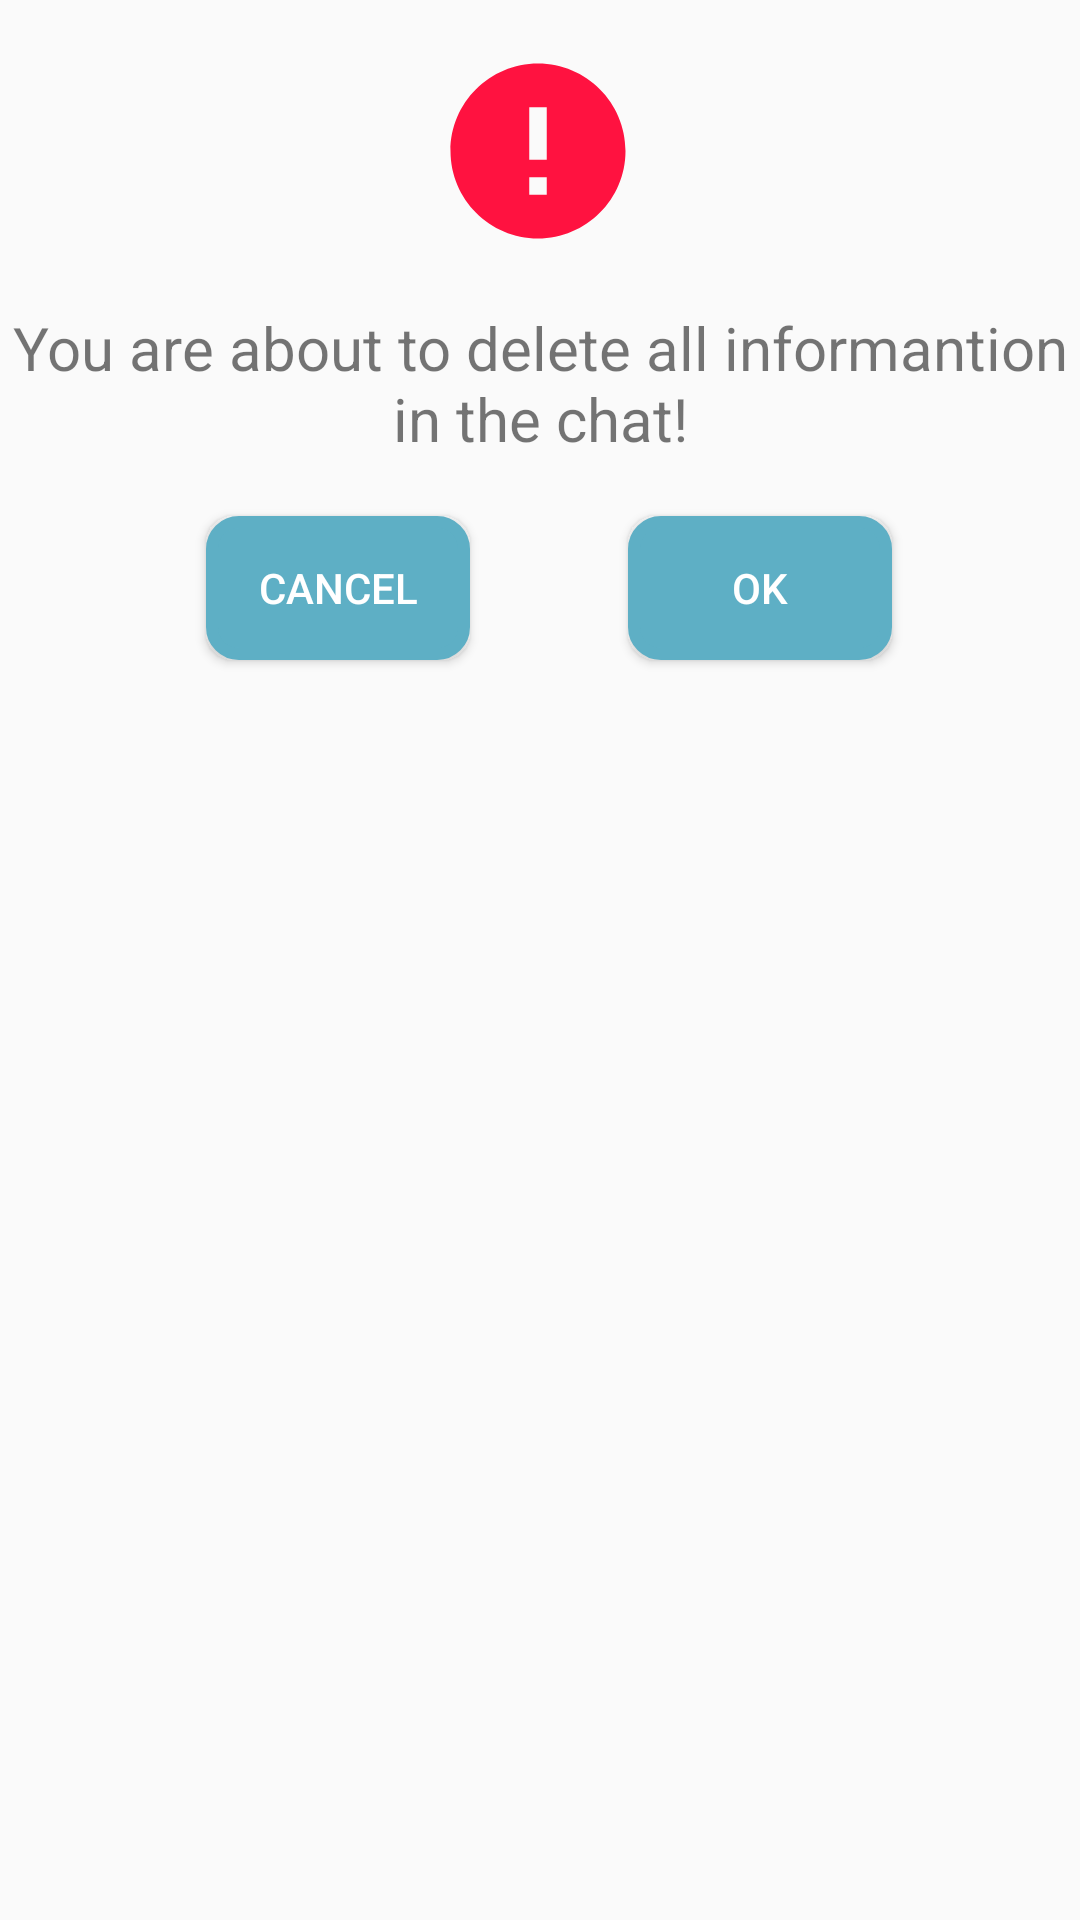

Icons on this 1080 x 1920 Android screen, each with its box as (x1, y1, x2, y2):
error: (450, 63, 626, 239)
